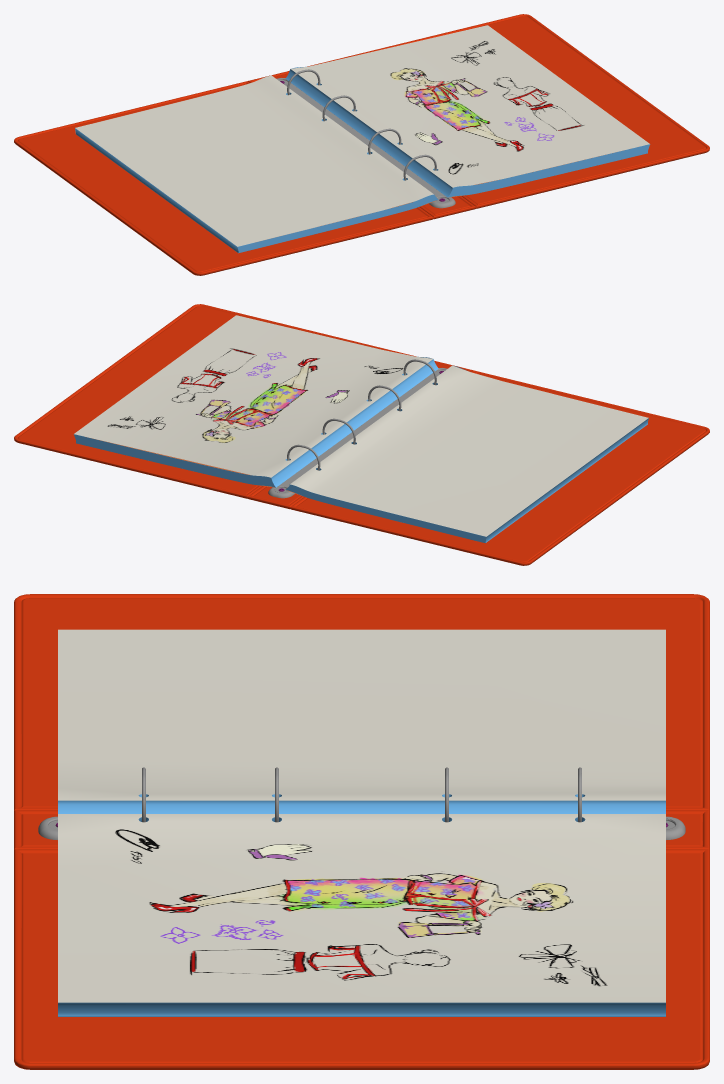
File: Notebook 2.FBX
3 views of the same model, one above another, from view 1: azimuth 30°, elevation 25°; view 2: azimuth 150°, elevation 25°; view 3: azimuth 270°, elevation 25° (orthographic). The views are drawn at different scales.
Parts seen in each view (by area): view 1: object_15, object_28, object_1, object_3, object_25, object_20, object_29, object_2; view 2: object_15, object_28, object_1, object_3, object_25, object_20, object_29, object_2; view 3: object_28, object_15, object_3, object_1, object_25, object_20, object_2, object_29.
Boxes of the visible parts, bbox=[...] form: object_15: bbox=[75, 75, 433, 246]; object_28: bbox=[290, 25, 649, 187]; object_1: bbox=[14, 81, 433, 275]; object_3: bbox=[307, 14, 709, 208]; object_25: bbox=[285, 66, 650, 197]; object_20: bbox=[75, 128, 438, 253]; object_29: bbox=[276, 78, 455, 208]; object_2: bbox=[248, 71, 476, 219]; object_15: bbox=[290, 365, 648, 536]; object_28: bbox=[74, 315, 433, 477]; object_1: bbox=[290, 371, 709, 565]; object_3: bbox=[14, 304, 416, 498]; object_25: bbox=[73, 356, 438, 487]; object_20: bbox=[285, 365, 648, 543]; object_29: bbox=[268, 368, 447, 498]; object_2: bbox=[247, 361, 475, 509]; object_28: bbox=[58, 814, 665, 1002]; object_15: bbox=[58, 629, 665, 800]; object_3: bbox=[14, 849, 709, 1069]; object_1: bbox=[14, 594, 709, 810]; object_25: bbox=[58, 1002, 665, 1016]; object_20: bbox=[58, 800, 665, 813]; object_2: bbox=[14, 810, 709, 849]; object_29: bbox=[38, 816, 685, 839].
Bounding box in the file's own units: 545 × 340 × 34.13.
